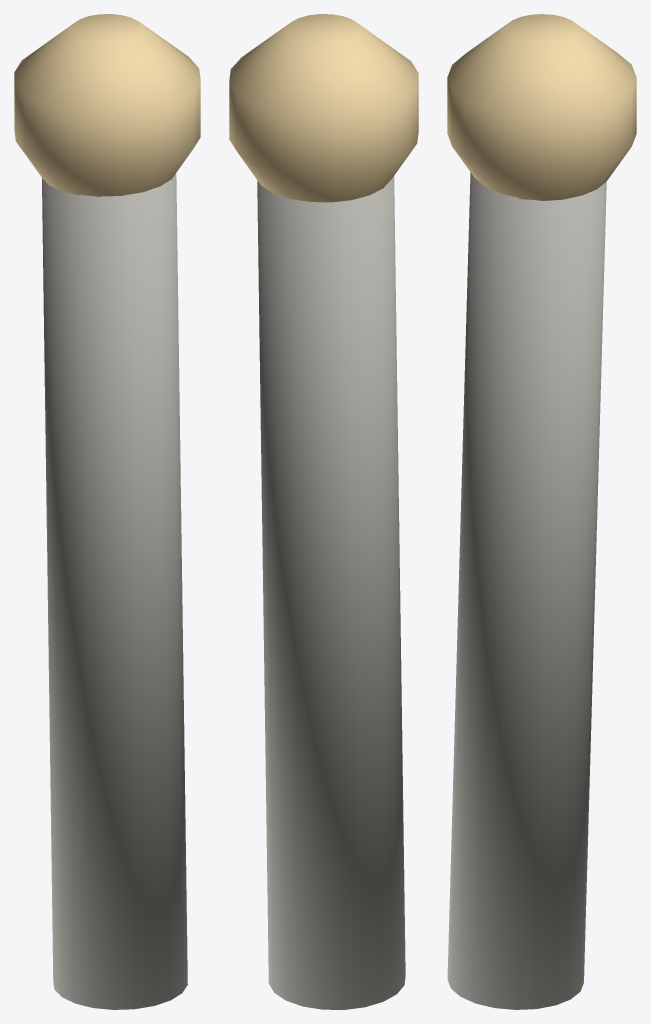
Rendered from marker-post-01.glb.
3 views of the same model, side by side, from view 1: azimuth 30°, elevation 25°; view 2: azimuth 150°, elevation 25°; view 3: azimuth 270°, elevation 25° (orthographic).
Parts seen in each view (by area): view 1: default; view 2: default; view 3: default.
Part boxes in pixels (bbox=[...]): default: bbox=[14, 14, 200, 1009]; default: bbox=[229, 14, 418, 1009]; default: bbox=[447, 14, 636, 1009].
Size of the model in its own units: 0.18 by 1 by 0.18.
